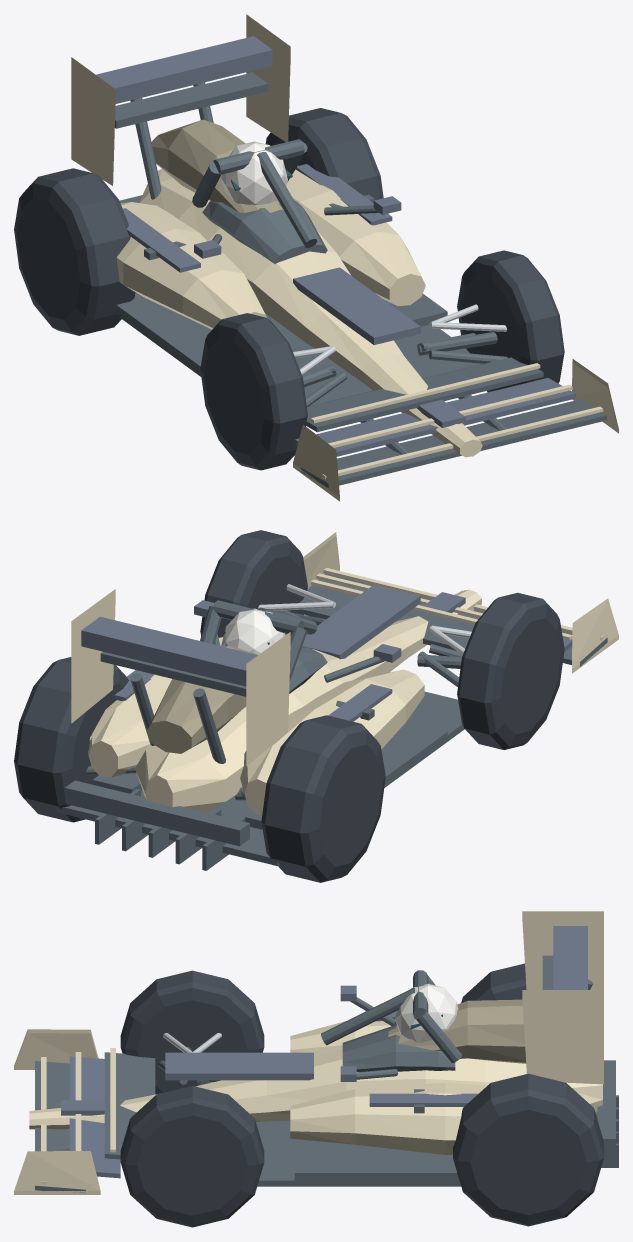
The model's file is cadillac_mobile.glb.
3 renders of one model, top to bottom at view 1: azimuth 30°, elevation 25°; view 2: azimuth 150°, elevation 25°; view 3: azimuth 270°, elevation 25°, orthographic. The views are drawn at different scales.
Parts seen in each view (by area): view 1: BODY_paint, BODY_carbon, BODY_accent, RearLeftWheel_rubber, FrontLeftWheel_rubber, FrontRightWheel_rubber, RearRightWheel_rubber, BODY_paint_dark, BODY_helmet, BODY_metal; view 2: BODY_paint, BODY_carbon, RearLeftWheel_rubber, FrontLeftWheel_rubber, BODY_accent, RearRightWheel_rubber, FrontRightWheel_rubber, BODY_paint_dark, BODY_helmet, BODY_metal; view 3: BODY_paint, BODY_carbon, RearRightWheel_rubber, FrontRightWheel_rubber, BODY_accent, FrontLeftWheel_rubber, BODY_paint_dark, BODY_helmet, RearLeftWheel_rubber.
Part boxes in pixels (box(x1,y1,x2,y2)): BODY_paint: box(71, 14, 618, 501); BODY_carbon: box(115, 72, 606, 487); BODY_accent: box(96, 36, 575, 456); RearLeftWheel_rubber: box(14, 168, 135, 335); FrontLeftWheel_rubber: box(200, 313, 307, 470); FrontRightWheel_rubber: box(457, 250, 564, 392); RearRightWheel_rubber: box(265, 108, 383, 200); BODY_paint_dark: box(151, 119, 283, 212); BODY_helmet: box(221, 141, 287, 205); BODY_metal: box(293, 304, 506, 375); BODY_paint: box(71, 532, 618, 814); BODY_carbon: box(56, 573, 607, 870); RearLeftWheel_rubber: box(261, 715, 385, 882); FrontLeftWheel_rubber: box(457, 592, 564, 749); BODY_accent: box(81, 579, 572, 721); RearRightWheel_rubber: box(14, 657, 128, 822); FrontRightWheel_rubber: box(200, 530, 307, 637); BODY_paint_dark: box(146, 646, 257, 753); BODY_helmet: box(221, 608, 285, 654); BODY_metal: box(89, 584, 471, 741); BODY_paint: box(14, 911, 603, 1194); BODY_carbon: box(35, 955, 618, 1193); RearRightWheel_rubber: box(453, 1073, 603, 1226); FrontRightWheel_rubber: box(120, 1086, 264, 1227); BODY_accent: box(61, 926, 587, 1178); FrontLeftWheel_rubber: box(120, 970, 264, 1094); BODY_paint_dark: box(388, 999, 526, 1063); BODY_helmet: box(395, 983, 458, 1042); RearLeftWheel_rubber: box(461, 963, 526, 1002).
Size of the model in its own units: 2.59 by 1.9 by 4.88.
